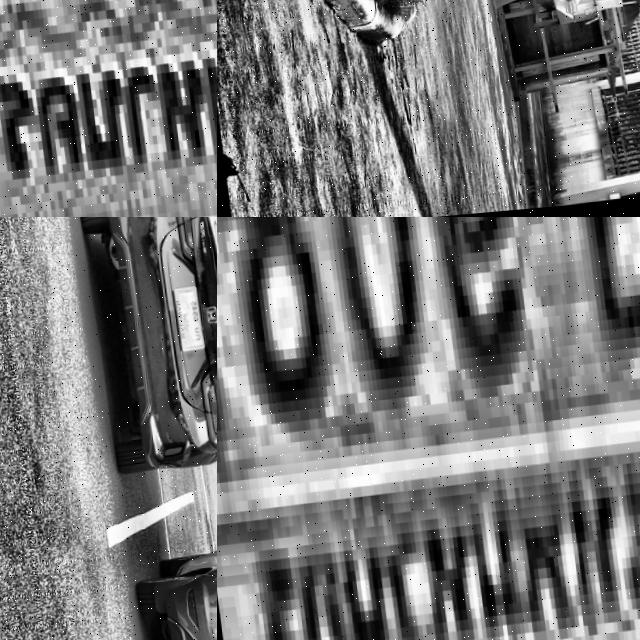license-plate: (217, 217, 640, 640), (0, 0, 217, 217), (77, 519, 126, 558)
